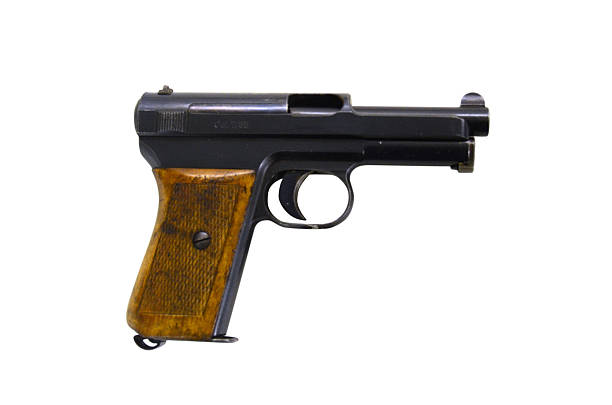pistol: (121, 81, 493, 350)
